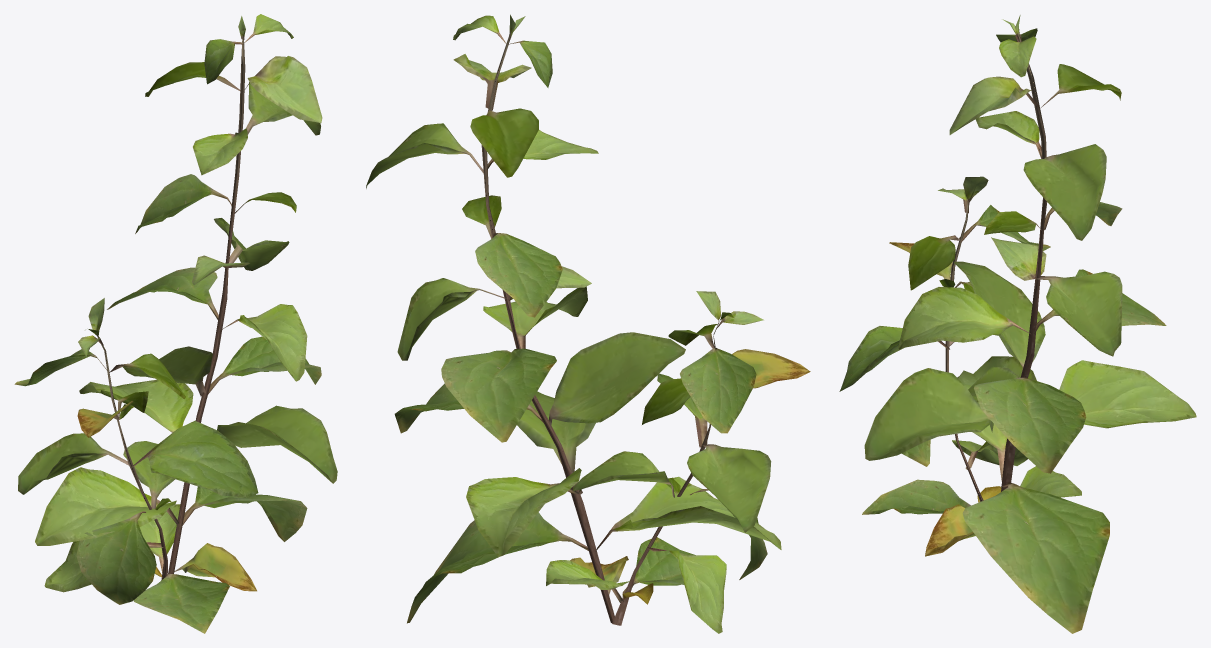
The model's file is shrub.glb.
3 views of the same model, side by side, from view 1: azimuth 30°, elevation 25°; view 2: azimuth 150°, elevation 25°; view 3: azimuth 270°, elevation 25° (orthographic). The views are drawn at different scales.
Parts seen in each view (by area): view 1: shrub_01_a; view 2: shrub_01_a; view 3: shrub_01_a.
Boxes of the visible parts, left/top/right/bottom form: shrub_01_a: left=14, top=14, right=337, bottom=633; shrub_01_a: left=366, top=14, right=810, bottom=633; shrub_01_a: left=839, top=15, right=1196, bottom=633.
Size of the model in its own units: 0.231 by 0.3717 by 0.2058.
Materials: 1 (1 with a texture image).
